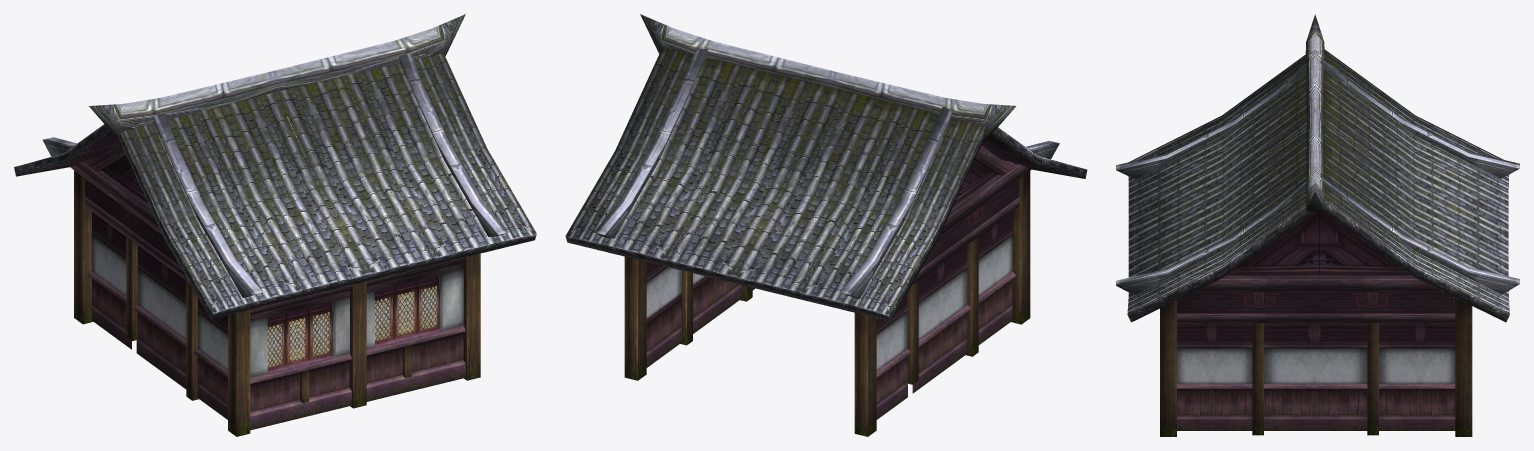
Rendered from SWDS_building_01.FBX.
3 views of the same model, side by side, from view 1: azimuth 30°, elevation 25°; view 2: azimuth 150°, elevation 25°; view 3: azimuth 270°, elevation 25° (orthographic). The views are drawn at different scales.
Parts seen in each view (by area): view 1: Box001; view 2: Box001; view 3: Box001.
Boxes of the visible parts, box(x1,y1,x2,y2) form: Box001: box(14, 14, 536, 436); Box001: box(565, 14, 1087, 436); Box001: box(1116, 14, 1519, 436).
Size of the model in its own units: 1009 by 736 by 972.
